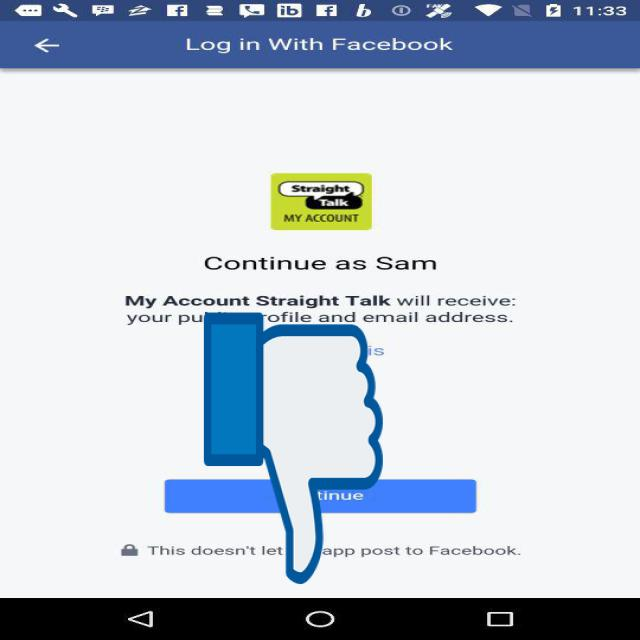obstruction: (204, 307, 383, 590)
